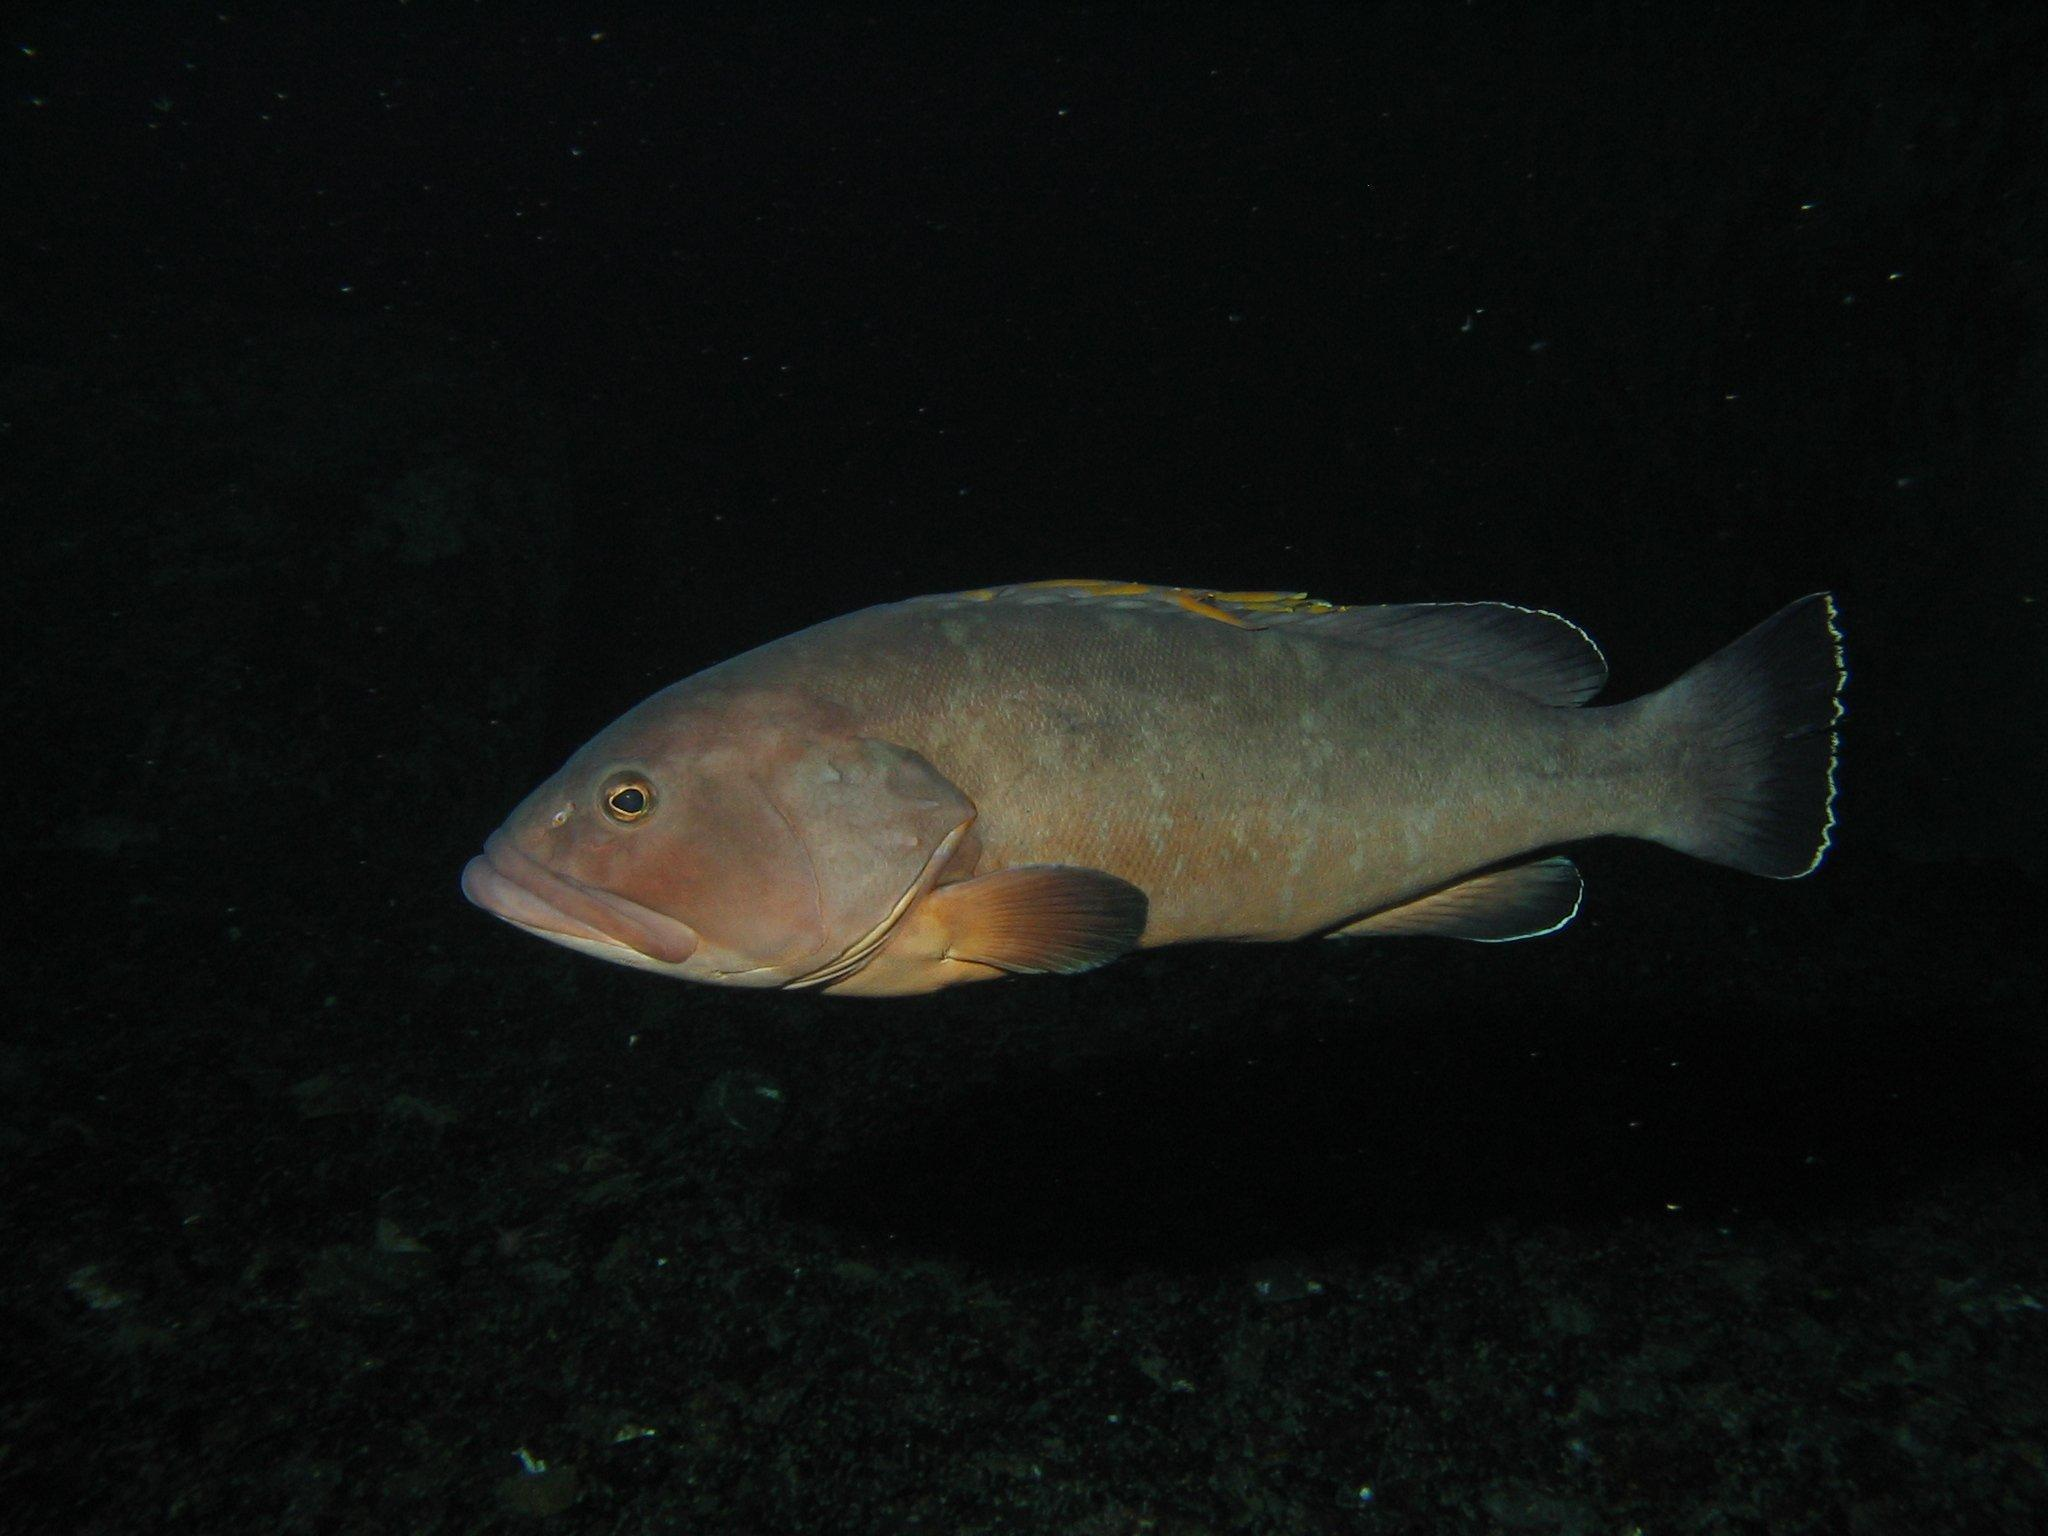Fish: (455, 532, 1863, 1037)
